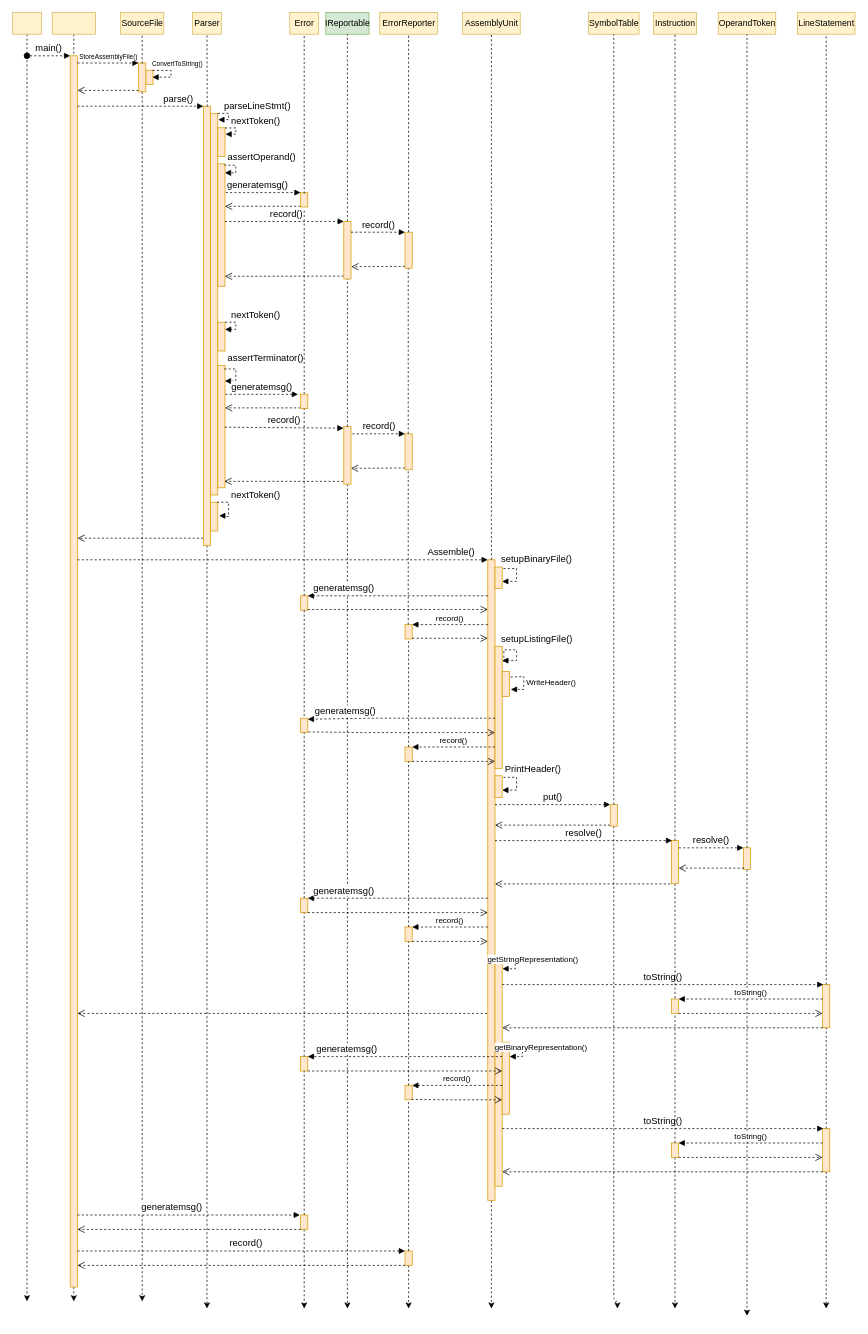
Some shapes in this 868 by 1334 pixel diagram are drawn without their labels. Each missing label, with the centre of its shape:
Actor: point (26, 23)
Assembler: point (73, 23)
